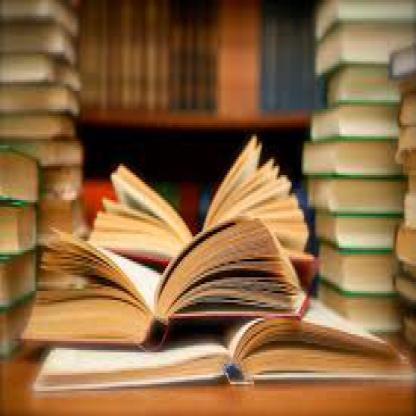paper: (17, 211, 308, 350), (32, 298, 413, 393), (85, 132, 316, 261), (312, 18, 414, 75), (315, 277, 399, 332), (316, 238, 395, 296), (299, 134, 398, 173), (311, 0, 415, 37), (313, 207, 401, 248), (0, 20, 76, 66), (307, 175, 405, 209), (0, 52, 80, 91), (0, 0, 78, 37), (0, 82, 79, 118), (307, 105, 398, 136), (324, 61, 399, 98), (0, 141, 40, 201), (0, 139, 82, 168), (0, 112, 74, 144), (0, 288, 34, 355), (0, 248, 34, 308), (0, 200, 37, 255), (36, 166, 83, 200), (36, 200, 73, 239), (388, 43, 414, 73), (394, 223, 414, 261), (396, 95, 414, 123), (401, 191, 414, 223), (396, 125, 414, 148), (395, 150, 414, 168), (400, 261, 414, 275), (398, 79, 414, 91), (407, 170, 414, 191)
